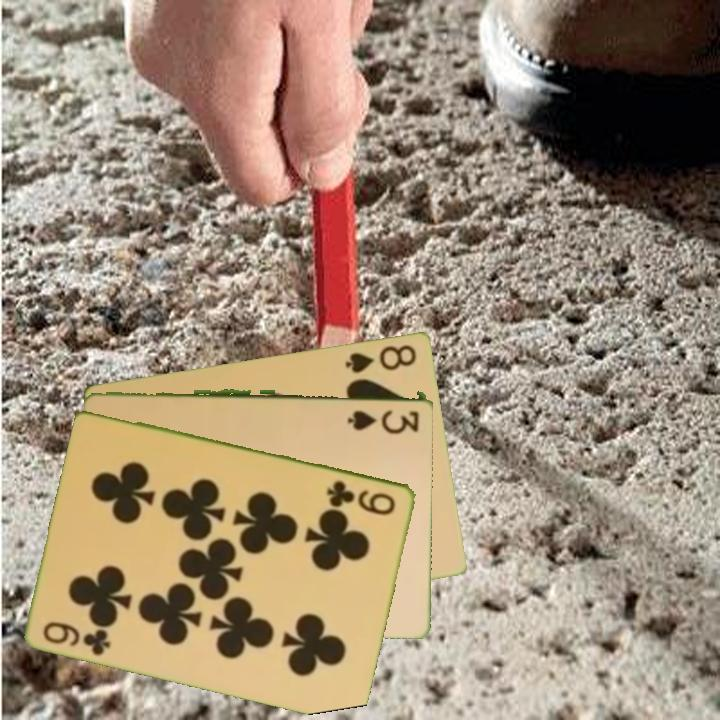3s: (344, 406, 422, 429)
8s: (342, 341, 420, 376)
9c: (324, 476, 399, 518), (39, 617, 114, 659)
